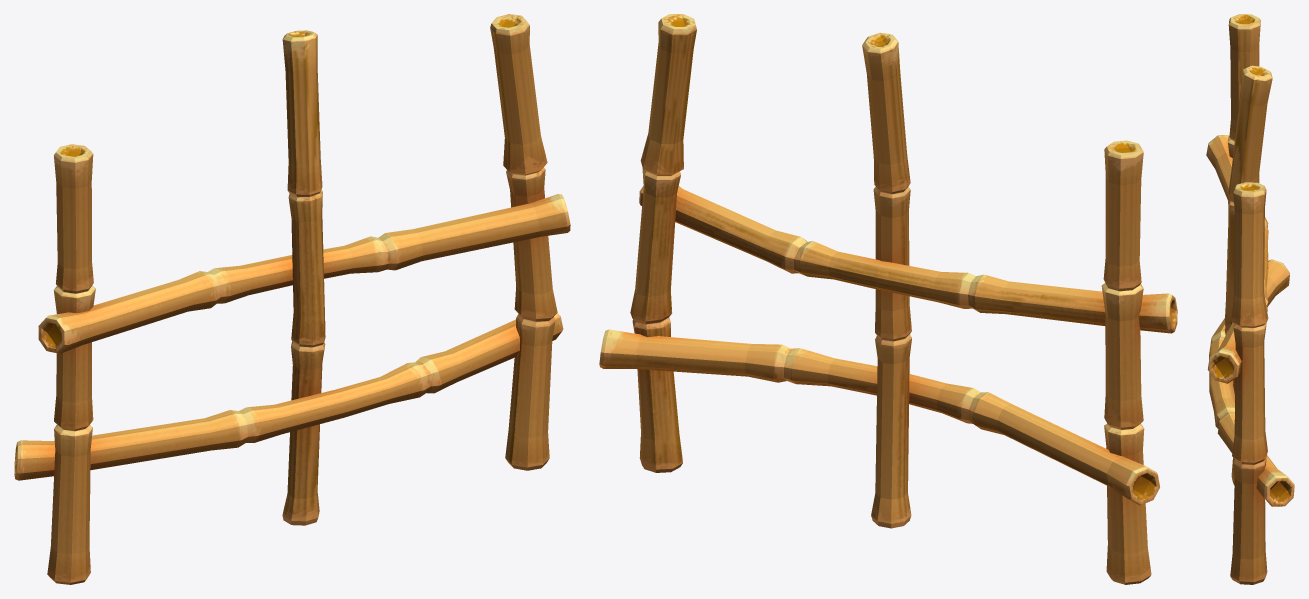
Rendered from bfbbr_-_bamboo_fence_01.glb.
3 renders of one model, left to right at view 1: azimuth 30°, elevation 25°; view 2: azimuth 150°, elevation 25°; view 3: azimuth 270°, elevation 25°, orthographic. The views are drawn at different scales.
Visible parts, largest first — view 1: SM_BB_BambooFence_01.mo; view 2: SM_BB_BambooFence_01.mo; view 3: SM_BB_BambooFence_01.mo.
Boxes of the visible parts, x1,y1,x2,y2 form: SM_BB_BambooFence_01.mo: [14, 14, 570, 584]; SM_BB_BambooFence_01.mo: [599, 14, 1177, 584]; SM_BB_BambooFence_01.mo: [1206, 14, 1294, 584].
Bounding box in the file's own units: 426 × 357 × 68.89.
1 material, 1 textured.
